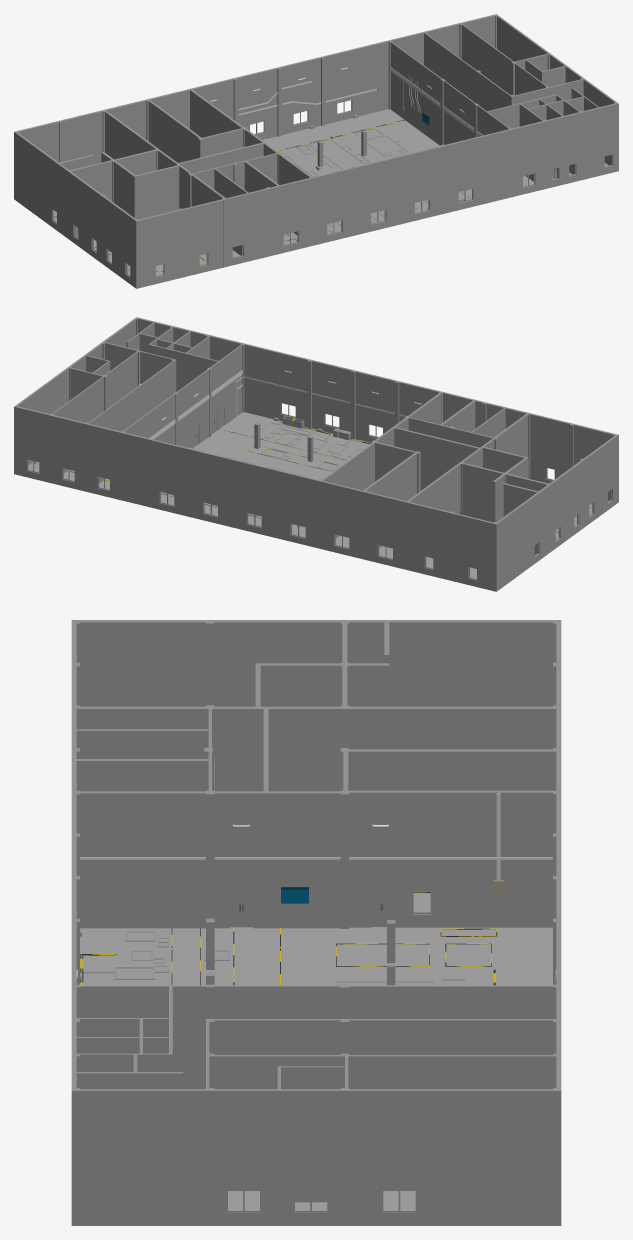
The model's file is shiyanlou_A03.fbx.
3 renders of one model, top to bottom at view 1: azimuth 30°, elevation 25°; view 2: azimuth 150°, elevation 25°; view 3: azimuth 270°, elevation 25°, orthographic. The views are drawn at different scales.
Parts seen in each view (by area): view 1: shiyanlou_A03; view 2: shiyanlou_A03; view 3: shiyanlou_A03.
Boxes of the visible parts, x1,y1,x2,y2 form: shiyanlou_A03: (14, 14, 618, 288); shiyanlou_A03: (14, 317, 618, 591); shiyanlou_A03: (71, 620, 561, 1225).
Bounding box in the file's own units: 3580 × 491 × 1574.
